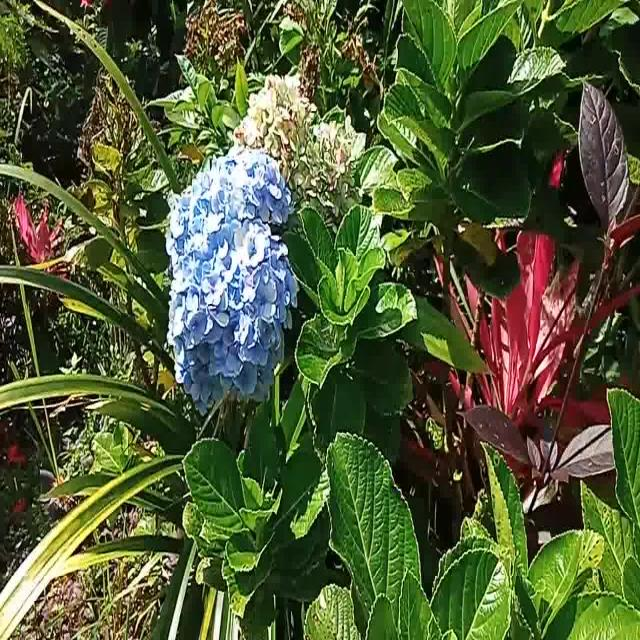Flower: (167, 149, 291, 411)
